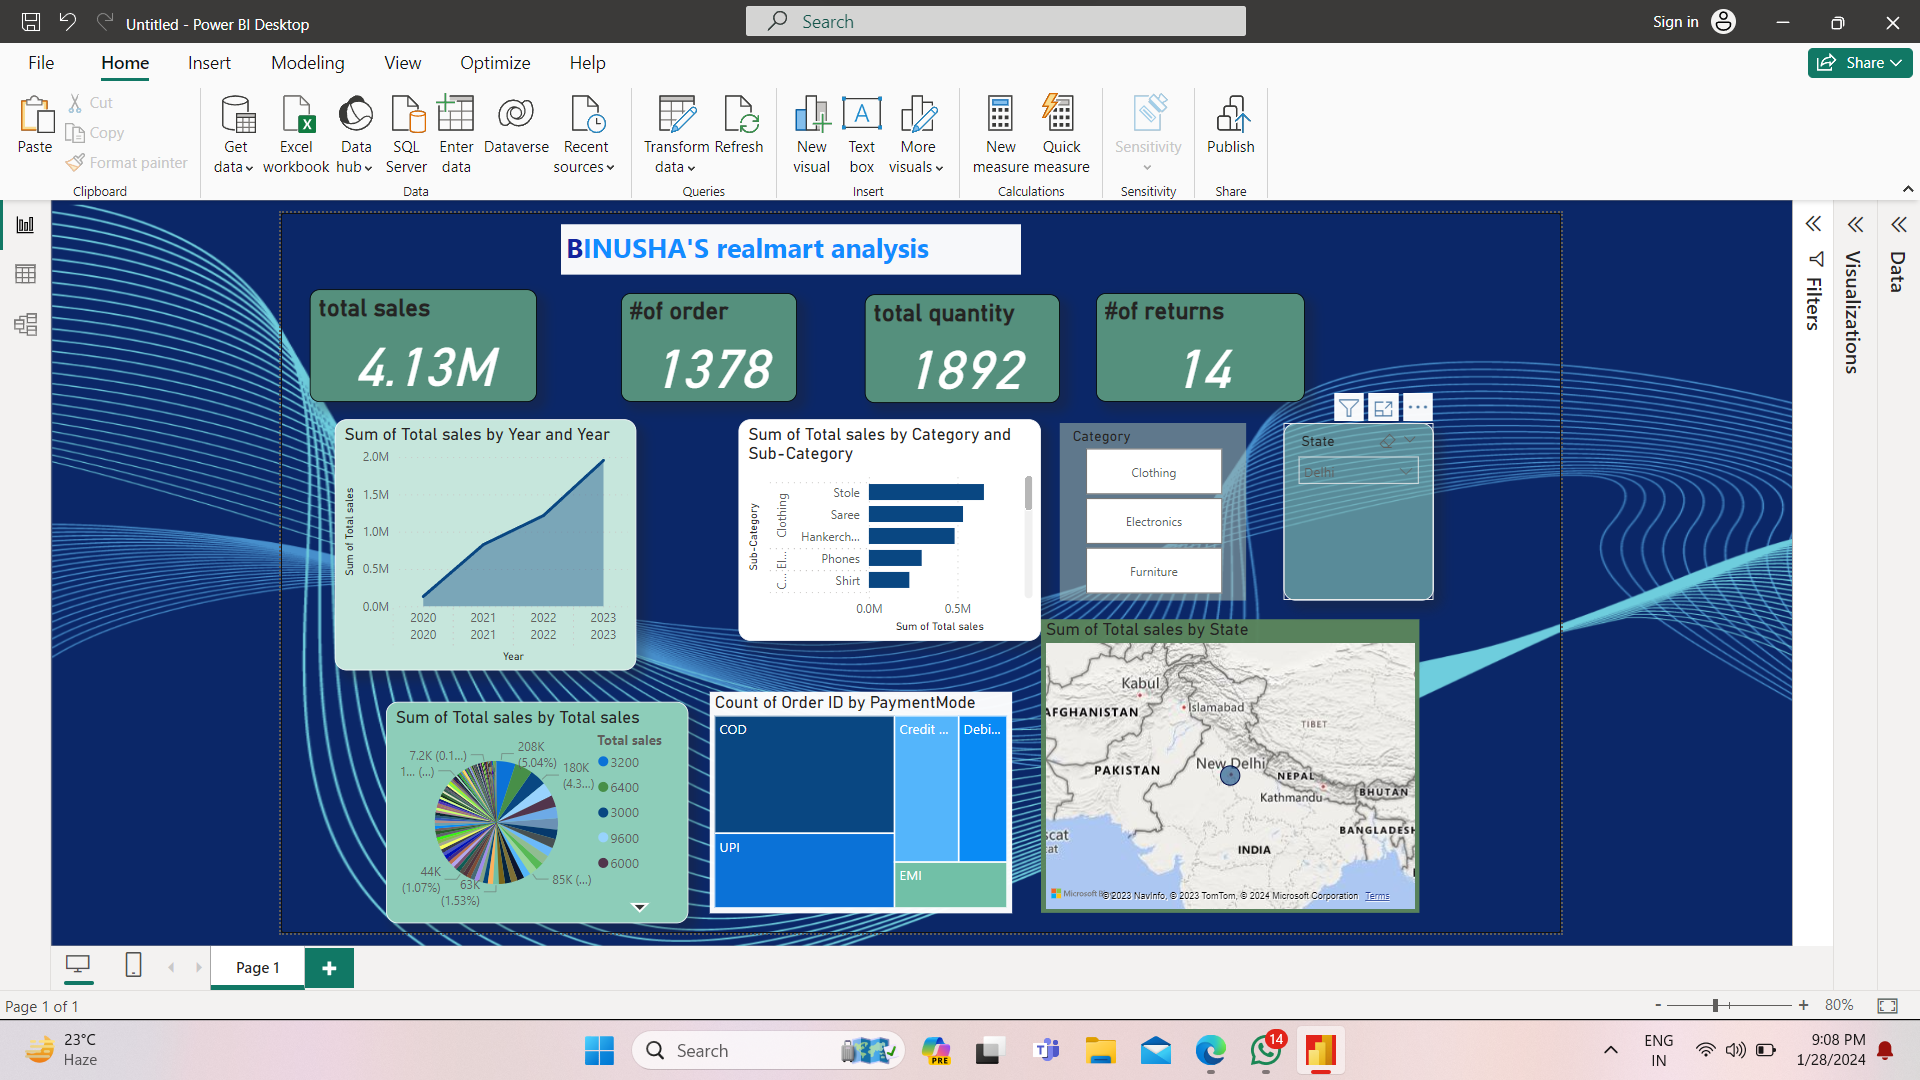

This screenshot's page, from the dashboard's own definition file:
{"tool":"powerbi","page":{"name":"Page 1","canvas":[1280,720],"ordinal":0},"visuals":[{"type":"card","title":"total sales","fields":{"Values":["Sum(Dataset.Total sales)"]},"box":[28.8,76.2,227.5,112.5],"z":0},{"type":"card","title":"#of order","fields":{"Values":["CountNonNull(Dataset.Order ID)"]},"box":[340,80,176.2,108.8],"z":1000},{"type":"card","title":"total quantity","fields":{"Values":["Sum(Dataset.Net quantity)"]},"box":[583.8,81.2,195,108.8],"z":2000},{"type":"card","title":"#of returns","fields":{"Values":["Sum(Dataset.Returns)"]},"box":[815,80,208.8,108.8],"z":3000},{"type":"stackedAreaChart","fields":{"Category":["Dataset.Date.Variation.Date Hierarchy.Year","Dataset.Date.Variation.Date Hierarchy.Year"],"Y":["Sum(Dataset.Total sales)"]},"box":[53.8,206.2,301.2,251.2],"z":4000},{"type":"pieChart","fields":{"Y":["Sum(Dataset.Total sales)"],"Category":["Dataset.Total sales"]},"box":[105,488.8,302.5,221.2],"z":5000},{"type":"clusteredBarChart","fields":{"Category":["Dataset.Category","Dataset.Sub-Category"],"Y":["Sum(Dataset.Total sales)"]},"box":[457.5,206.2,302.5,221.2],"z":6000},{"type":"treemap","fields":{"Group":["Dataset.PaymentMode"],"Values":["CountNonNull(Dataset.Order ID)"]},"box":[428.8,478.8,302.5,221.2],"z":7000},{"type":"map","fields":{"Category":["Dataset.State"],"Size":["Sum(Dataset.Total sales)"]},"box":[760,406.2,378.8,293.8],"z":8000},{"type":"slicer","fields":{"Values":["Dataset.Category"]},"box":[778.8,210,186.2,177.5],"z":9000},{"type":"slicer","fields":{"Values":["Dataset.State"]},"box":[1002.5,210,150,177.5],"z":10000},{"type":"textbox","box":[280,11.2,460,50],"z":13000}]}

Visuals, with their boxes on the page's 1280x720 design canvas (x1, y1, x2, y2). These are canvas units, not pixel positions in the 1920x1080 screenshot, which may show the page scaled, cropped or inside an application window:
"total sales" card: rect(29, 76, 256, 189)
"#of order" card: rect(340, 80, 516, 189)
"total quantity" card: rect(584, 81, 779, 190)
"#of returns" card: rect(815, 80, 1024, 189)
stackedAreaChart - Dataset.Date.Variation.Date Hierarchy.Year x Dataset.Date.Variation.Date Hierarchy.Year: rect(54, 206, 355, 457)
pieChart - Sum(Dataset.Total sales) x Dataset.Total sales: rect(105, 489, 408, 710)
clusteredBarChart - Dataset.Category x Dataset.Sub-Category: rect(458, 206, 760, 427)
treemap - Dataset.PaymentMode x CountNonNull(Dataset.Order ID): rect(429, 479, 731, 700)
map - Dataset.State x Sum(Dataset.Total sales): rect(760, 406, 1139, 700)
slicer - Dataset.Category: rect(779, 210, 965, 388)
slicer - Dataset.State: rect(1002, 210, 1152, 388)
textbox: rect(280, 11, 740, 61)
